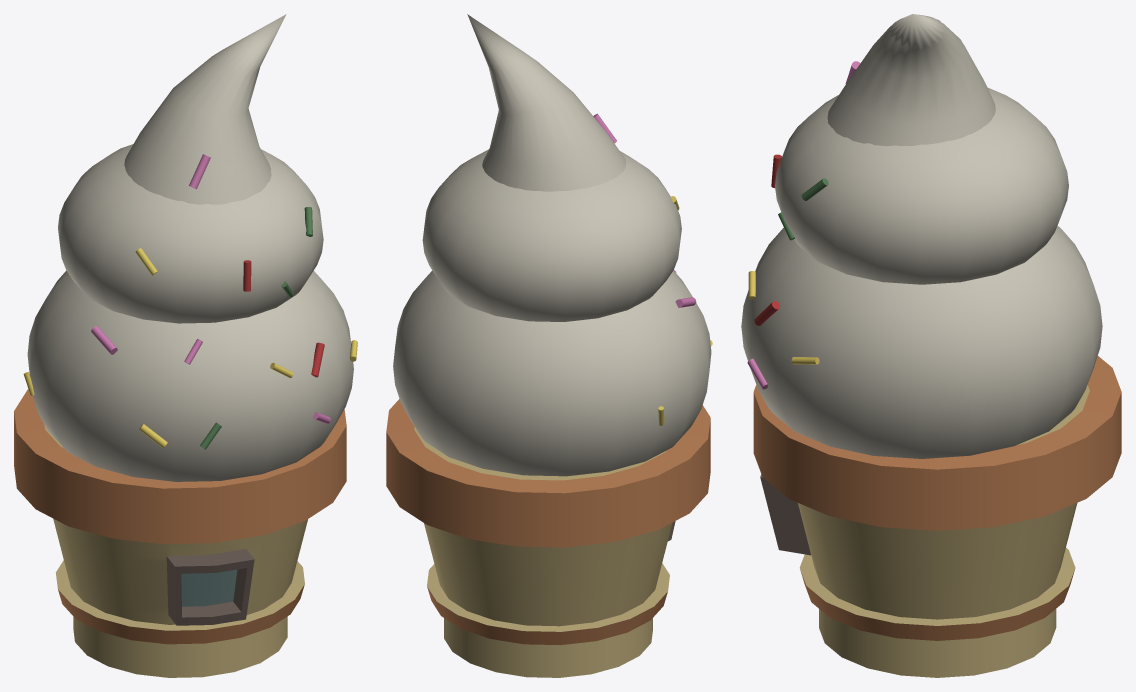
Rendered from building#5.fbx.
3 views of the same model, side by side, from view 1: azimuth 30°, elevation 25°; view 2: azimuth 150°, elevation 25°; view 3: azimuth 270°, elevation 25° (orthographic). The views are drawn at different scales.
Parts seen in each view (by area): view 1: pCylinder22, pCylinder7; view 2: pCylinder22, pCylinder7; view 3: pCylinder22, pCylinder7.
Boxes of the visible parts, x1,y1,x2,y2 form: pCylinder22: (23, 14, 357, 481); pCylinder7: (14, 389, 346, 677); pCylinder22: (393, 14, 712, 476); pCylinder7: (386, 399, 710, 677); pCylinder22: (741, 14, 1102, 458); pCylinder7: (753, 356, 1121, 677).
Bounding box in the file's own units: 5.51 × 11.06 × 5.68.
